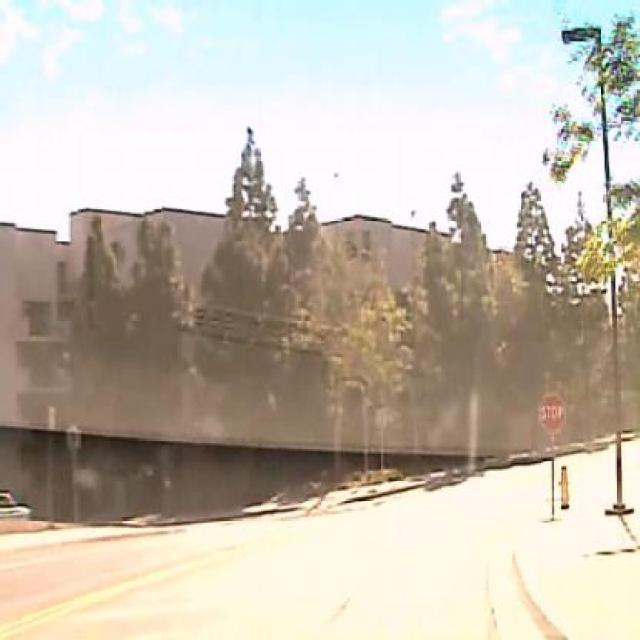stop: (538, 394, 565, 434)
